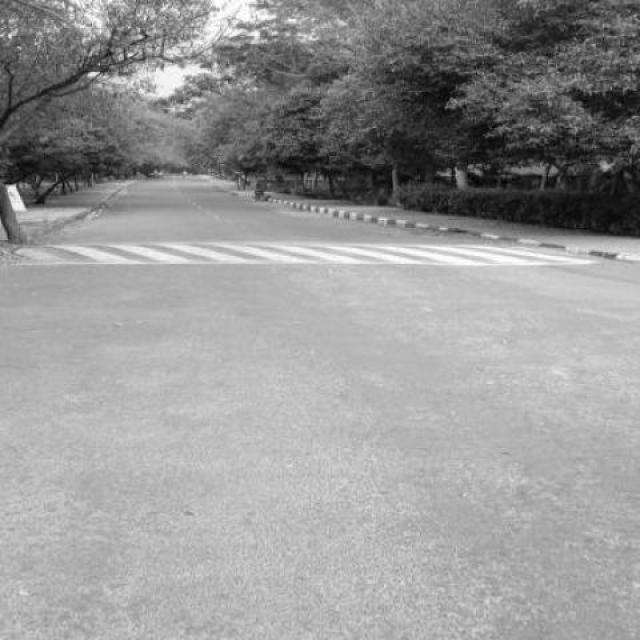Speed Bump: (0, 240, 595, 266)
